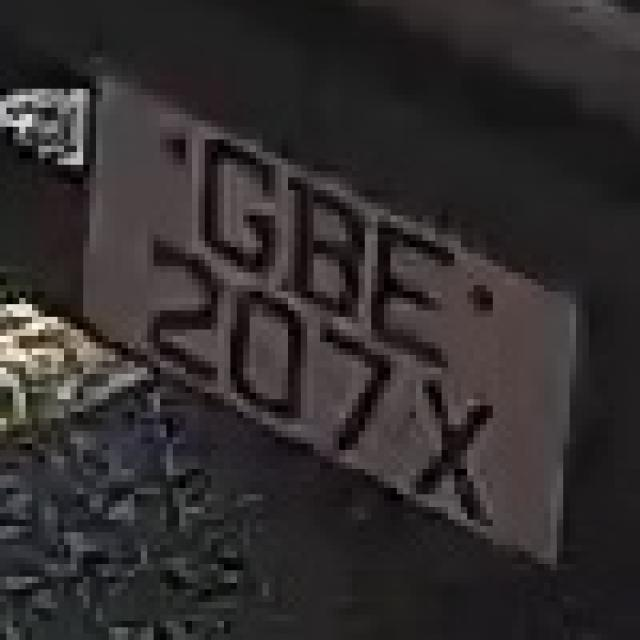0: (224, 266, 307, 425)
2: (134, 203, 224, 393)
7: (282, 292, 384, 462)
B: (275, 158, 365, 330)
E: (365, 190, 454, 374)
G: (173, 107, 275, 310)
X: (410, 342, 506, 532)
